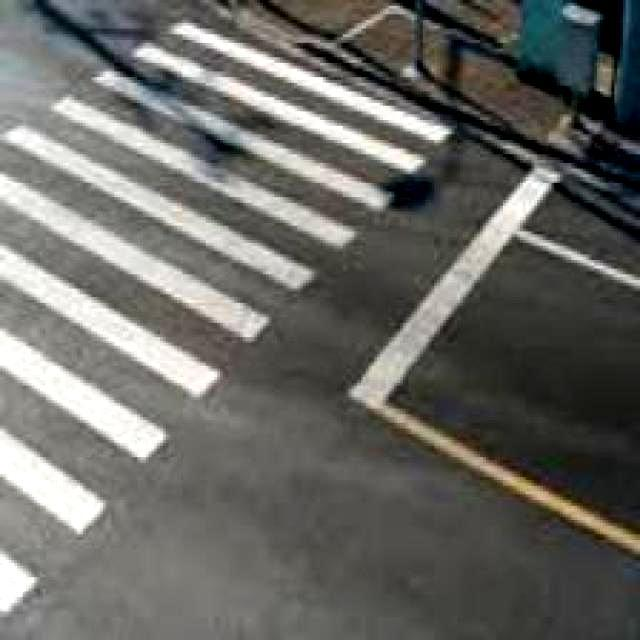crosswalk: (2, 51, 405, 637)
